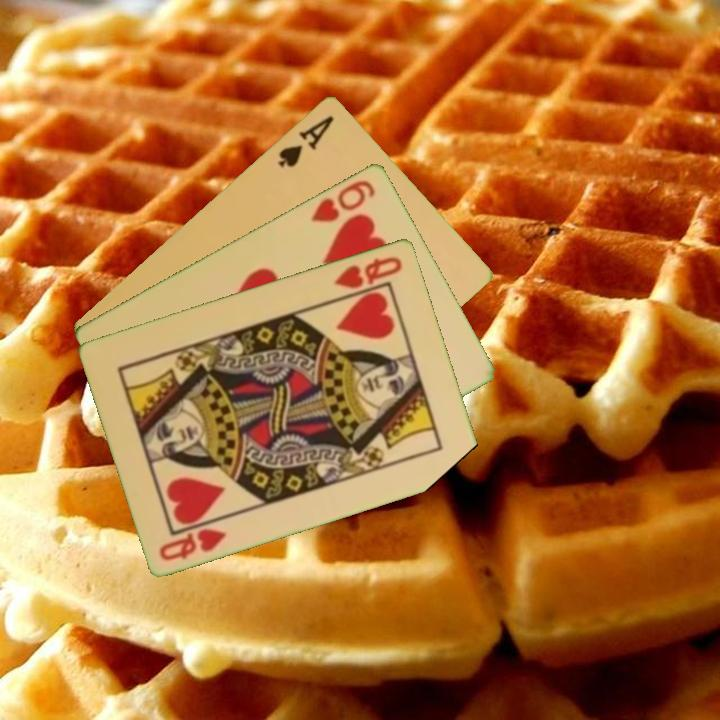6h: (307, 176, 378, 225)
As: (274, 111, 337, 170)
Qh: (331, 252, 405, 292), (155, 524, 230, 563)
